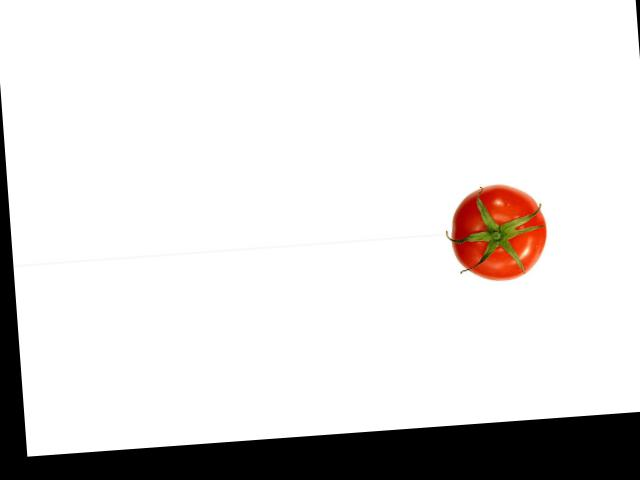tomato: (448, 181, 550, 283)
